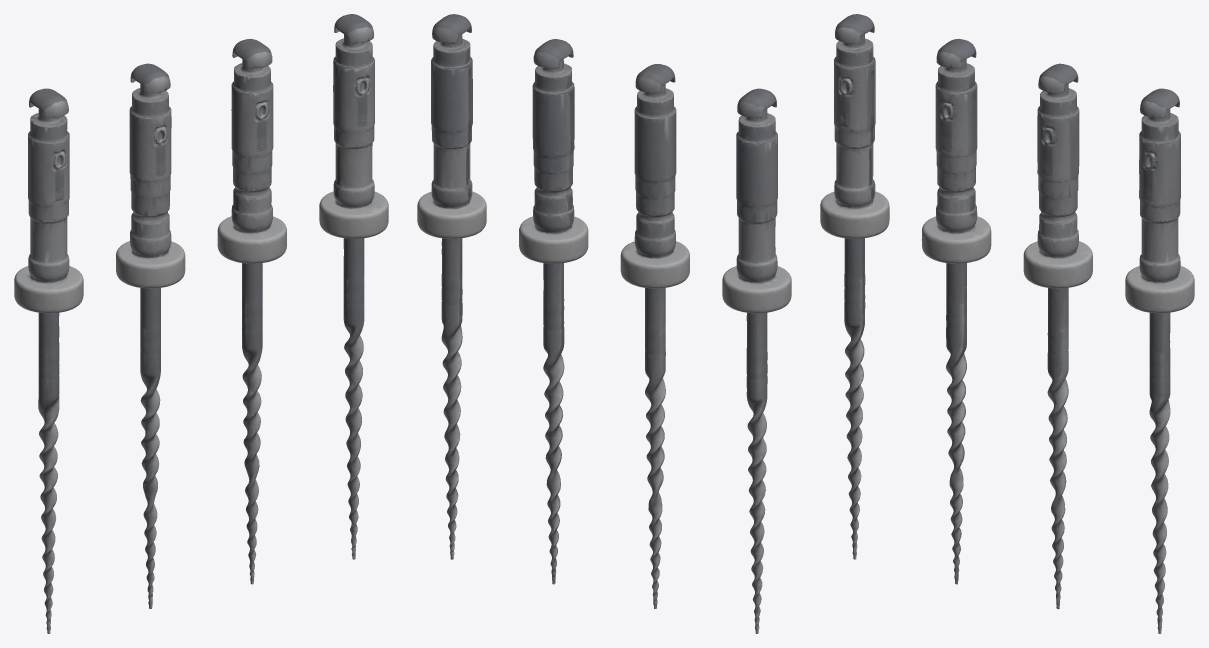
Rendered from limas-fast.glb.
3 renders of one model, left to right at view 1: azimuth 30°, elevation 25°; view 2: azimuth 150°, elevation 25°; view 3: azimuth 330°, elevation 25°, orthographic.
Parts seen in each view (by area): view 1: mesh_node; view 2: mesh_node; view 3: mesh_node.
Part boxes in pixels (x1,y1,x2,y2): mesh_node: [14, 14, 388, 633]; mesh_node: [417, 14, 791, 633]; mesh_node: [820, 14, 1194, 633].
Size of the model in its own units: 1.34 by 1.9 by 0.2223.
Materials: 1 (1 with a texture image).
